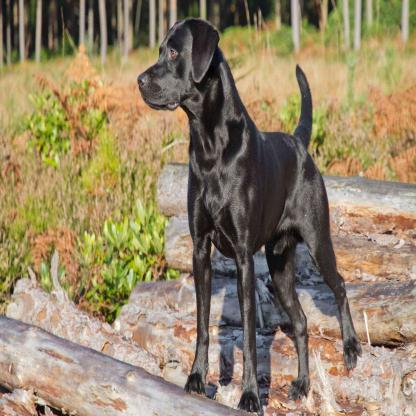dog: (136, 21, 361, 414)
